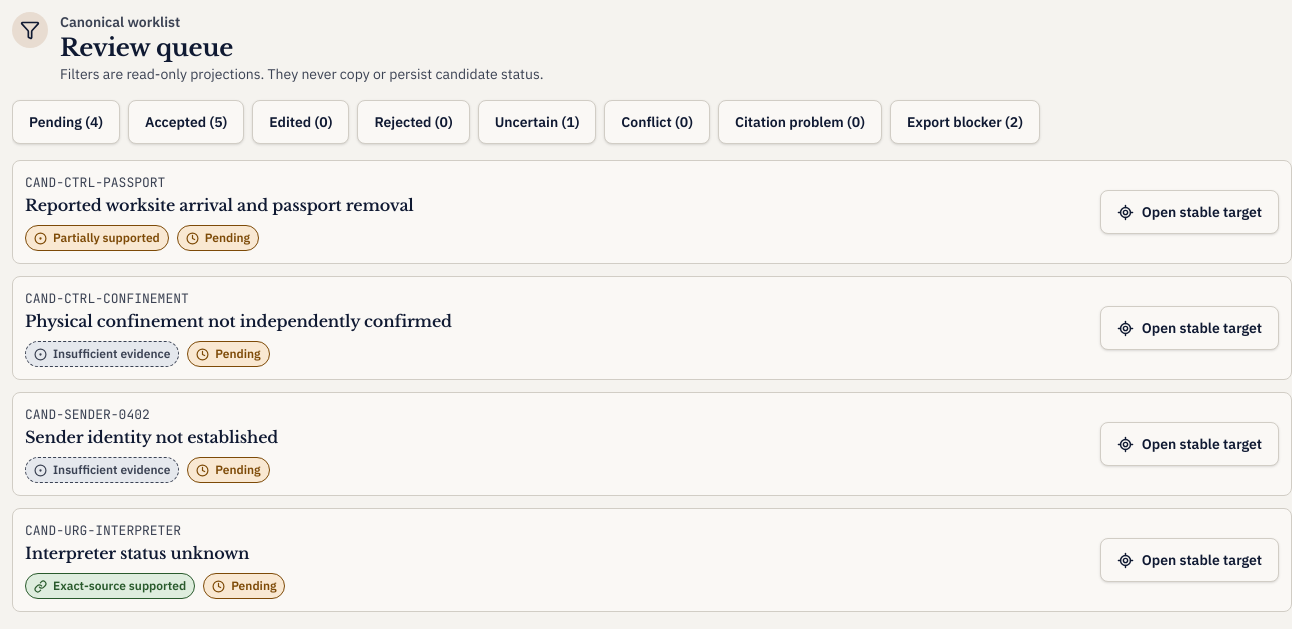
Scenario: TASK-021 review queue › filters canonical candidates across every frozen queue category
The width and height of the screenshot is (1292, 629).
Step 1. Click the button "Export blocker (2)" → [965, 122], box [890, 100, 1040, 144]
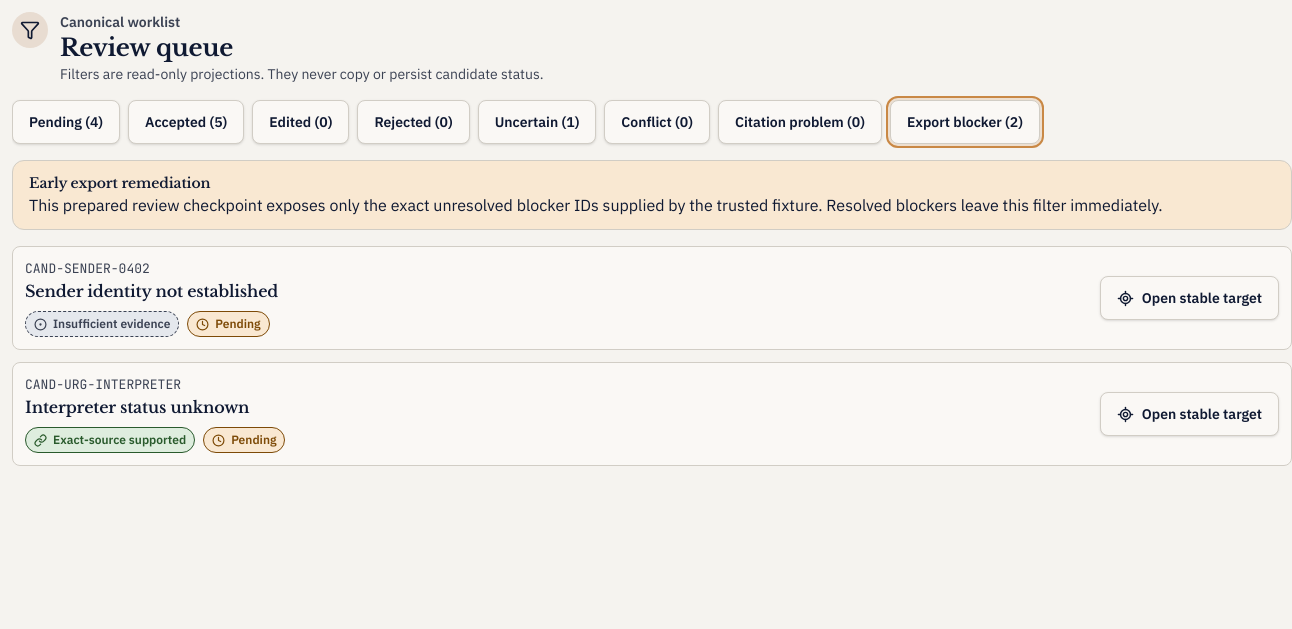
Expected: the text "CAND-SENDER-0402" is shown, [25, 260, 150, 277]
Expected: the text "CAND-CTRL-CONFINEMENT" is gone
